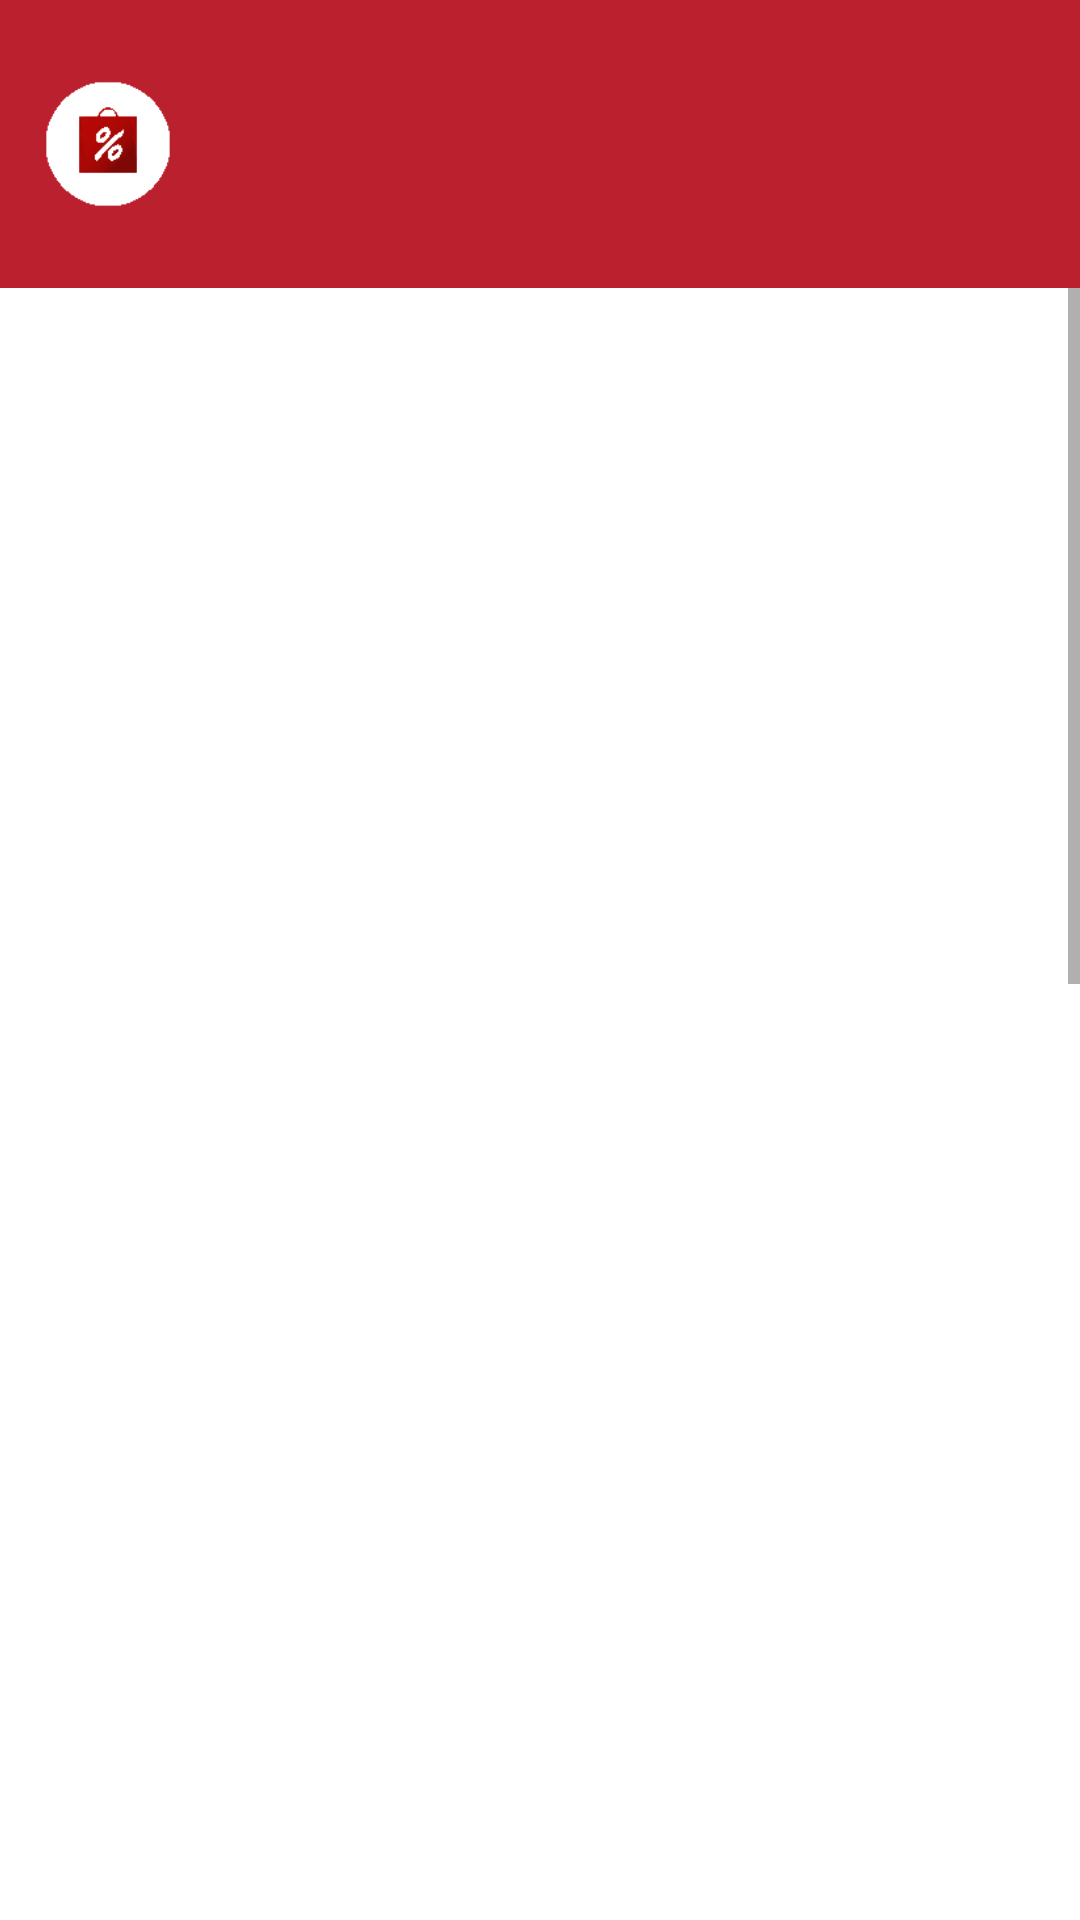

Named icons in this screenshot (1080px x 1920px) and their bounding boxes, bbox=[x1, y1, x2, y2]:
sell: bbox=[46, 82, 170, 206]
